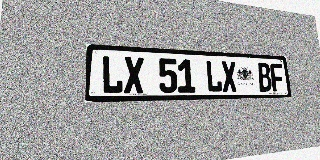1: (177, 59, 195, 93)
5: (159, 58, 178, 93)
B: (257, 63, 272, 92)
F: (270, 63, 285, 92)
L: (101, 55, 123, 94), (205, 60, 223, 92)
X: (124, 56, 144, 94), (221, 61, 238, 92)
